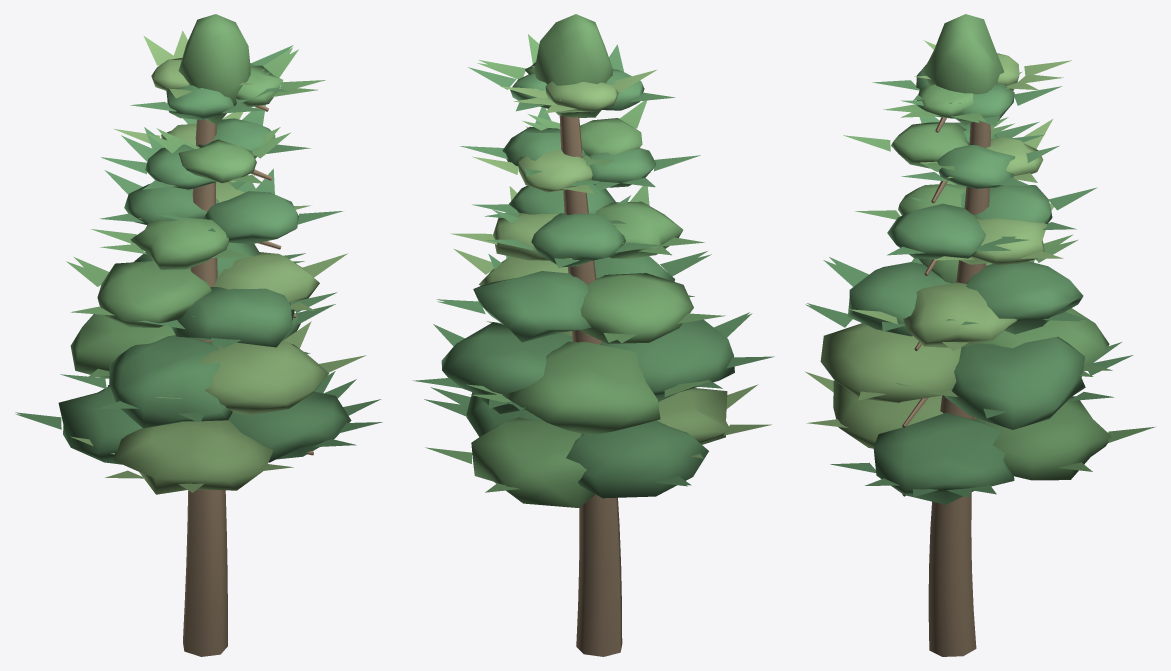
Rendered from kiefer_2.glb.
3 views of the same model, side by side, from view 1: azimuth 30°, elevation 25°; view 2: azimuth 150°, elevation 25°; view 3: azimuth 270°, elevation 25° (orthographic). The views are drawn at different scales.
Parts seen in each view (by area): view 1: G_kiefer_2; view 2: G_kiefer_2; view 3: G_kiefer_2.
Part boxes in pixels (x1,y1,x2,y2): G_kiefer_2: (15,14,382,656); G_kiefer_2: (412,14,774,656); G_kiefer_2: (805,14,1155,656).
Size of the model in its own units: 5.18 by 10.29 by 5.11.
